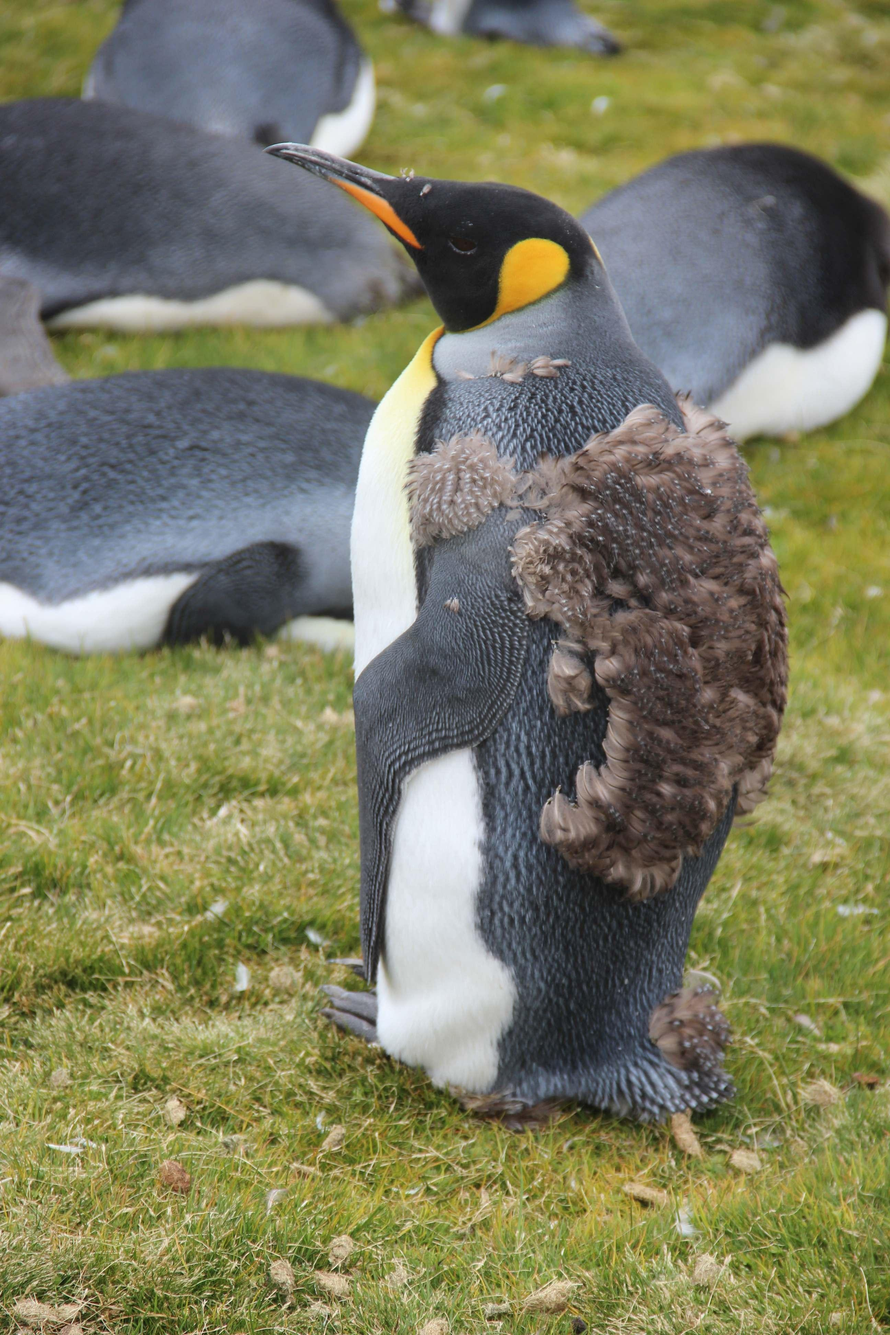Penguin: (271, 144, 787, 1121), (0, 366, 381, 657), (0, 94, 425, 334), (577, 138, 890, 452), (82, 0, 376, 159)
